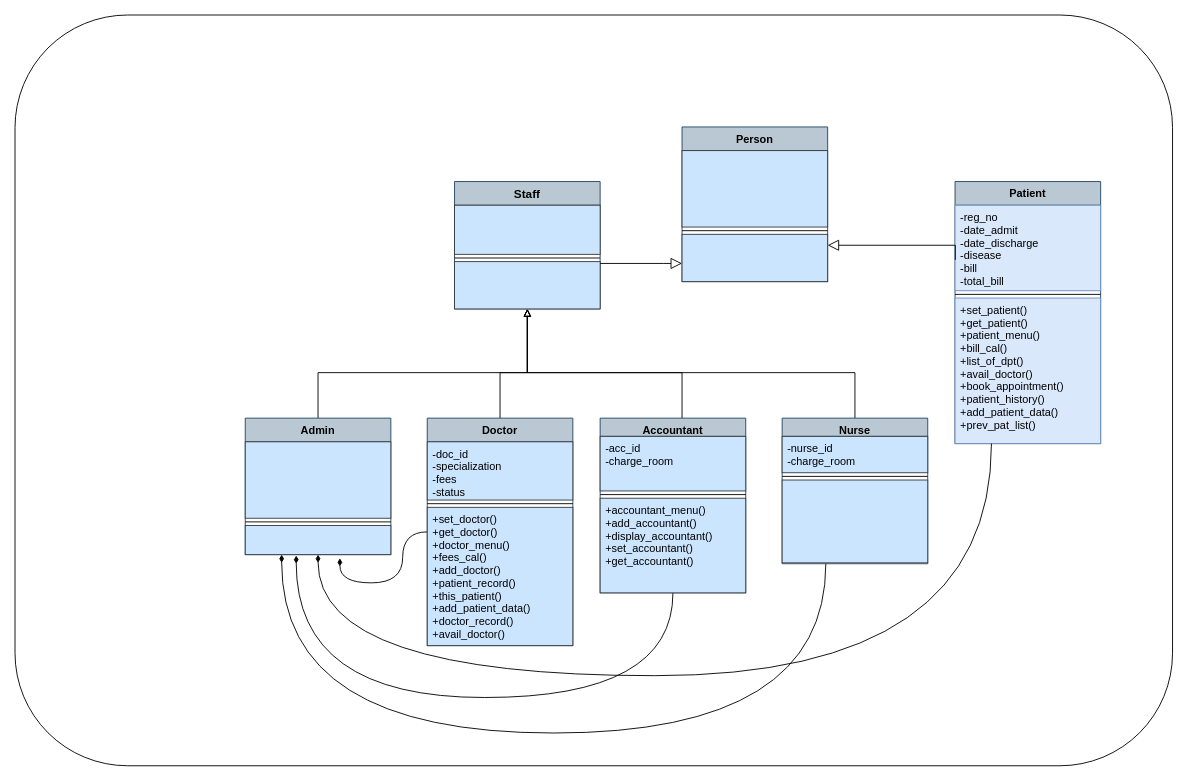
This 1188x781 diagram has some shape labels left out. Here are the shapes that lost their labels. From the top down, the box of each, then its label:
(681, 150, 828, 227): Name Age Phone no CNIC Address
(454, 204, 600, 254): -salary -time_from -time_to
(681, 233, 828, 282): set_person() get_person()
(454, 261, 600, 309): +set_staff() +get_staff()
(244, 441, 391, 518): doctor object patient object accountant obj nurse object
(244, 525, 391, 555): +admin_menu()
(781, 479, 928, 563): +nurse_menu() +add_nurse() +display_nurse() +set_nurse() +get_nurse()
